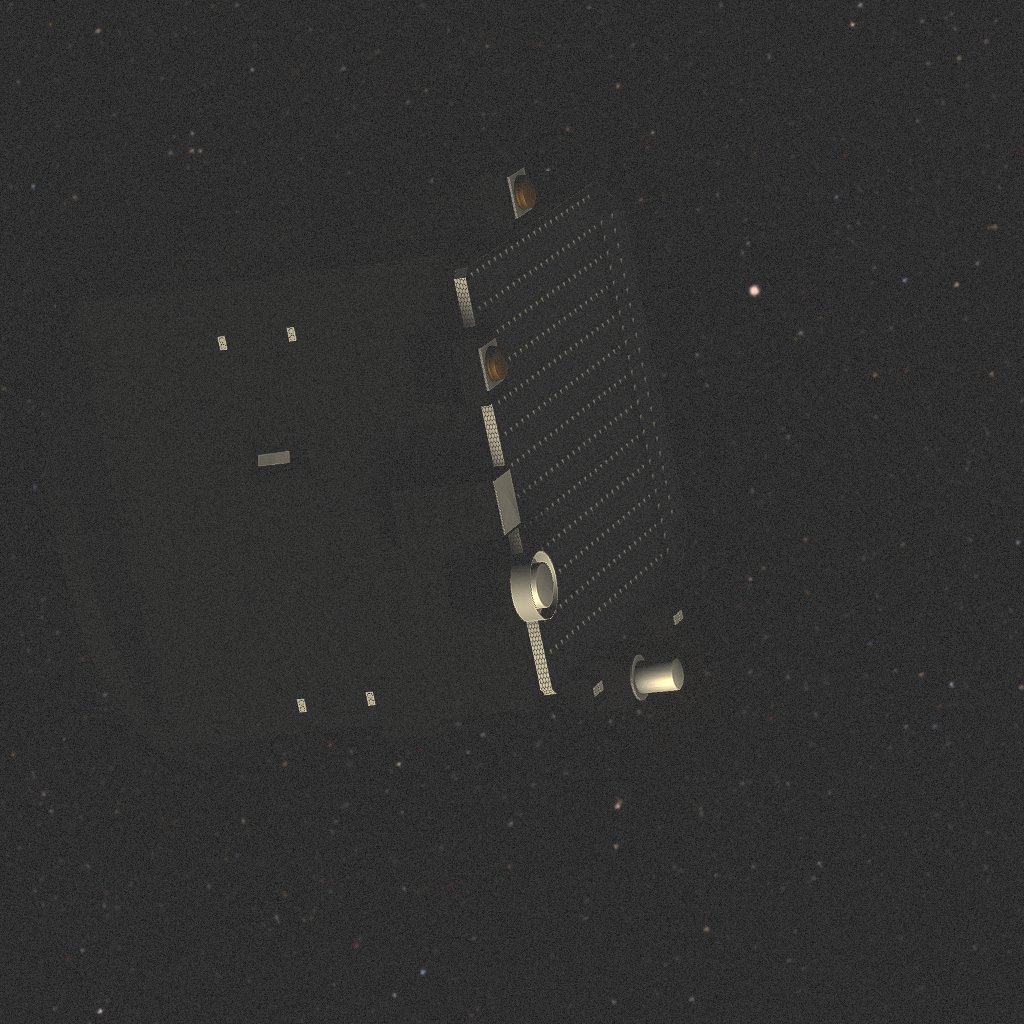proba_3_ocs: (44, 158, 687, 766)
